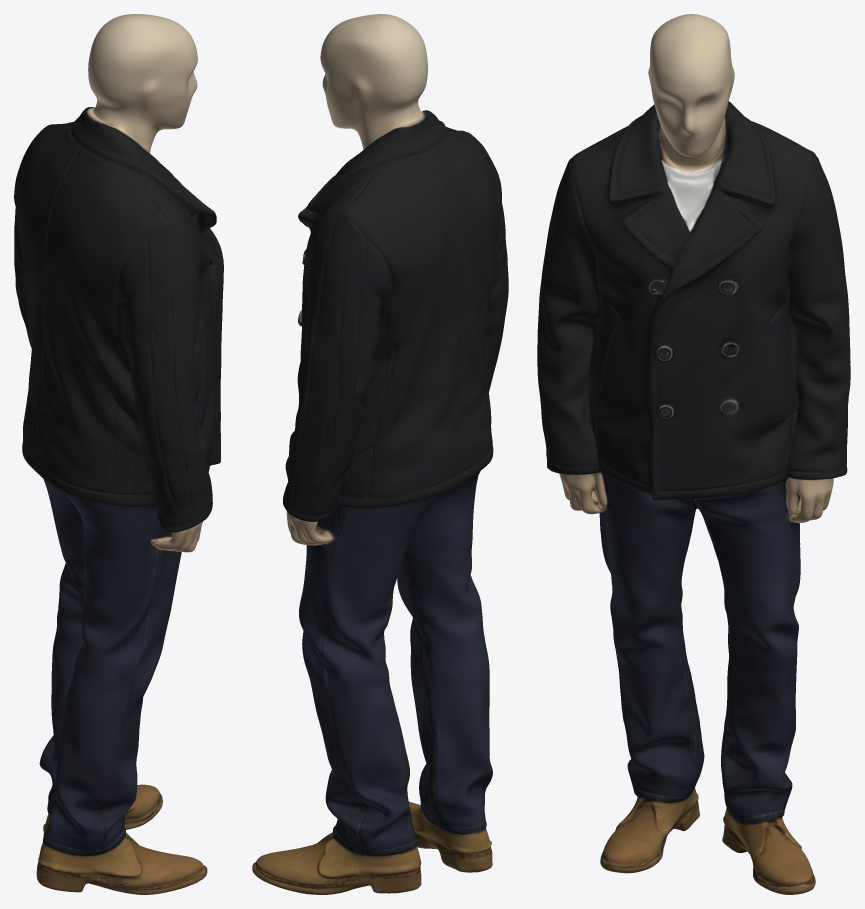
Rendered from model_men.glb.
3 renders of one model, left to right at view 1: azimuth 30°, elevation 25°; view 2: azimuth 150°, elevation 25°; view 3: azimuth 270°, elevation 25°, orthographic.
Parts seen in each view (by area): view 1: tripo_node_e2571d32-48d3-4c5c-a402-0e2f73447414; view 2: tripo_node_e2571d32-48d3-4c5c-a402-0e2f73447414; view 3: tripo_node_e2571d32-48d3-4c5c-a402-0e2f73447414.
Part boxes in pixels (x1,y1,x2,y2): tripo_node_e2571d32-48d3-4c5c-a402-0e2f73447414: (14,14,223,894); tripo_node_e2571d32-48d3-4c5c-a402-0e2f73447414: (252,14,508,894); tripo_node_e2571d32-48d3-4c5c-a402-0e2f73447414: (537,14,850,894).
Bounding box in the file's own units: 0.2215 × 1 × 0.335.
1 material, 1 textured.
